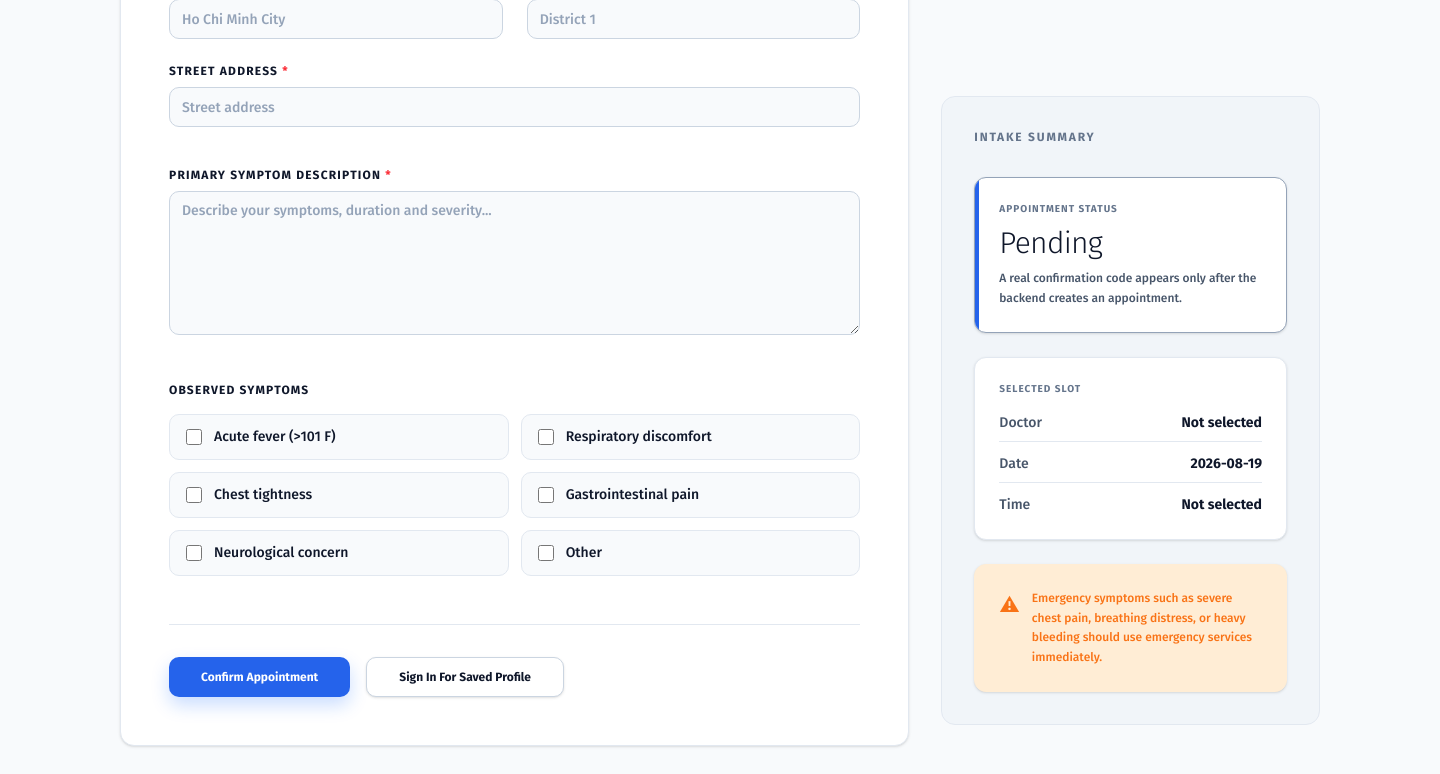
Test case: PublicBookingPage › requires a selected doctor and slot before submitting
(page scrolled)
What coordinates should you click on to do the following:
click the button "Confirm Appointment"
I would click on:
 (260, 677)
Its box is [169, 657, 350, 697].
(page scrolled)
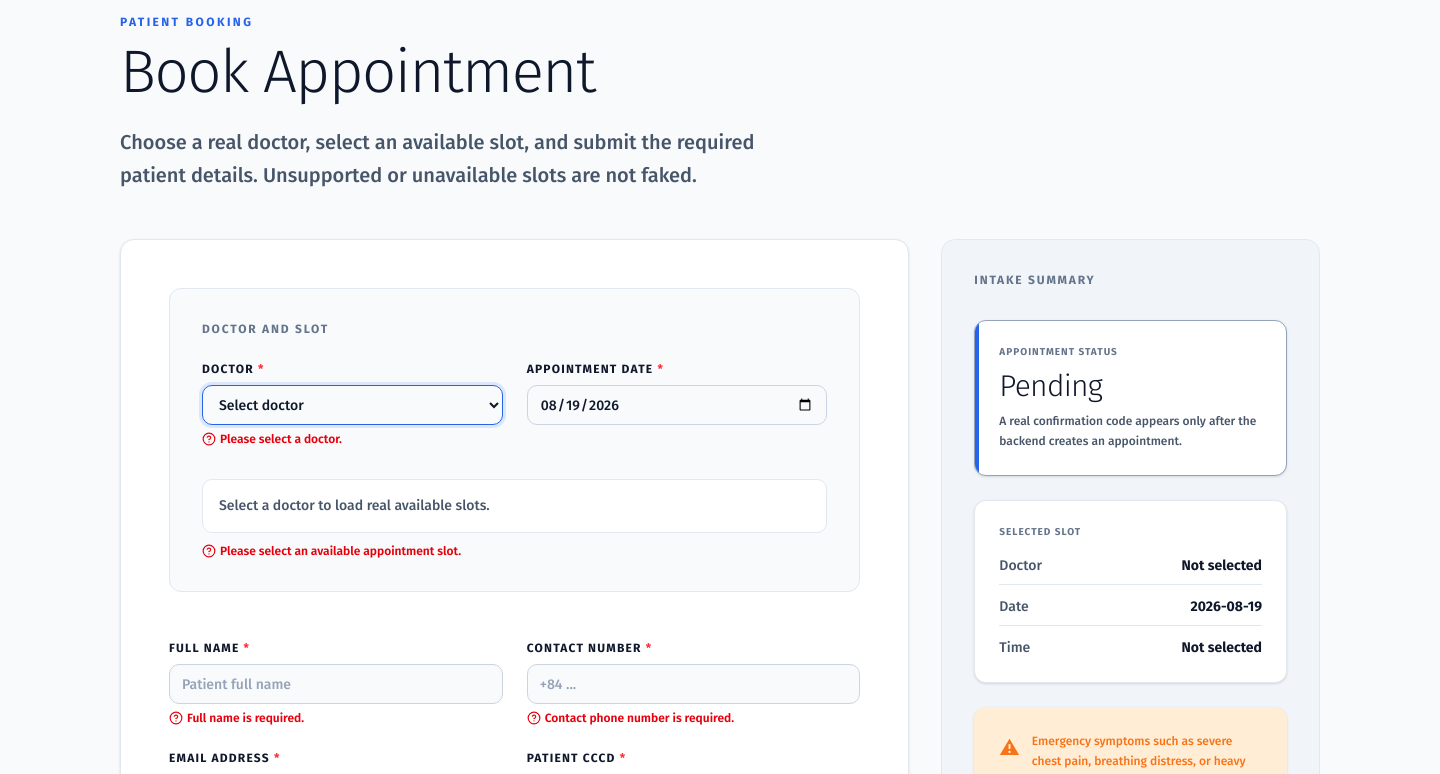
Now the text "Please select a doctor." is shown, box [220, 431, 342, 447]
